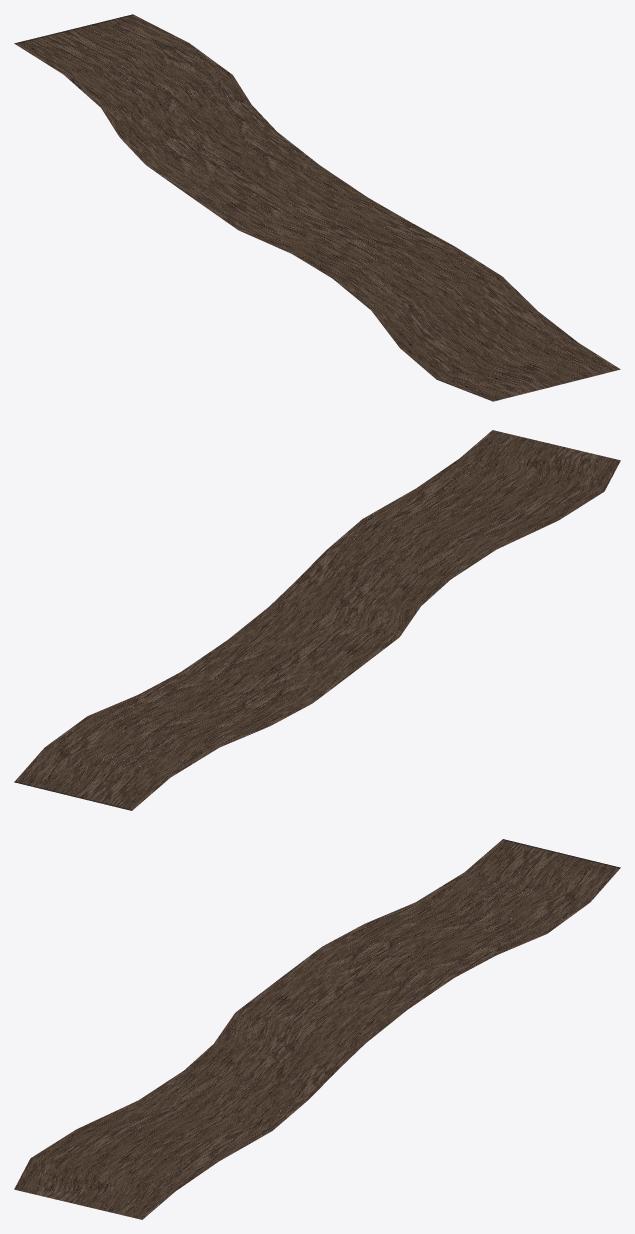
Rendered from BD_Path.fbx.
3 renders of one model, top to bottom at view 1: azimuth 30°, elevation 25°; view 2: azimuth 150°, elevation 25°; view 3: azimuth 330°, elevation 25°, orthographic.
Parts seen in each view (by area): view 1: Plane; view 2: Plane; view 3: Plane.
Part boxes in pixels (x1,y1,x2,y2): Plane: [14, 14, 620, 401]; Plane: [14, 430, 620, 810]; Plane: [14, 839, 620, 1219].
Size of the model in its own units: 550 by 0.000474 by 2908.
